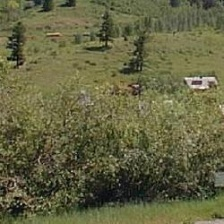neutral: (4, 5, 219, 210)
